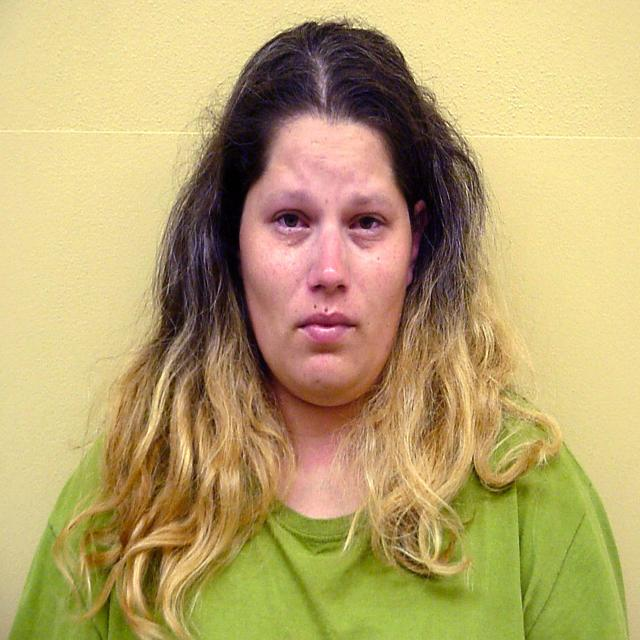mobile_phonerotation: (8, 17, 629, 638)
